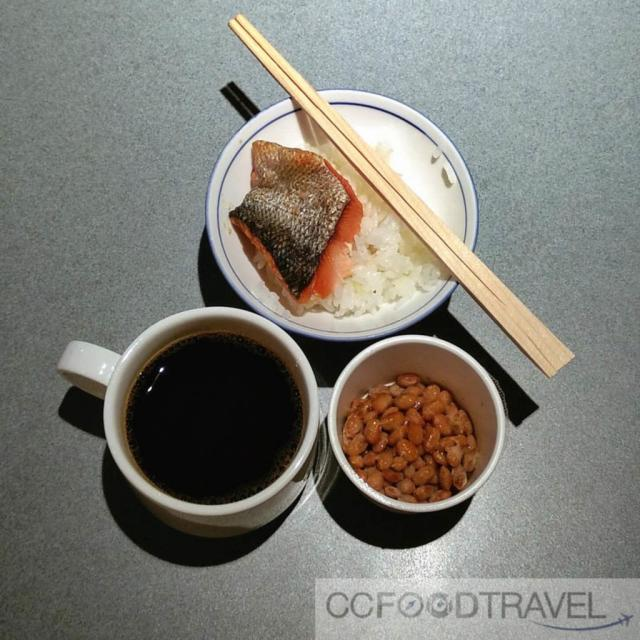Coffee: (128, 330, 303, 504)
Tea: (124, 334, 305, 506)
